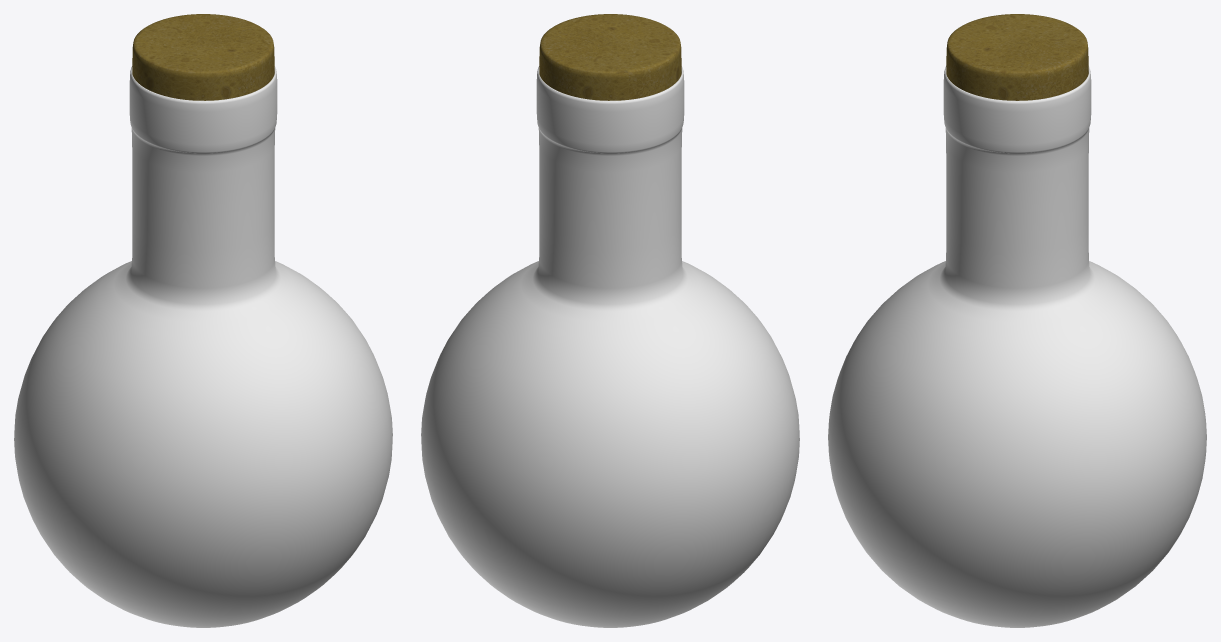
The model's file is HealPotion.fbx.
The picture shows the model from 3 angles, left to right: view 1: azimuth 30°, elevation 25°; view 2: azimuth 150°, elevation 25°; view 3: azimuth 270°, elevation 25°; orthographic projection.
Parts seen in each view (by area): view 1: Circle; view 2: Circle; view 3: Circle.
Boxes of the visible parts, x1,y1,x2,y2 form: Circle: (14,14,392,627); Circle: (421,14,799,627); Circle: (828,14,1206,627).
Bounding box in the file's own units: 26.93 × 44.57 × 26.93.
